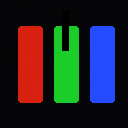4 line_v: (62, 10, 68, 50)
